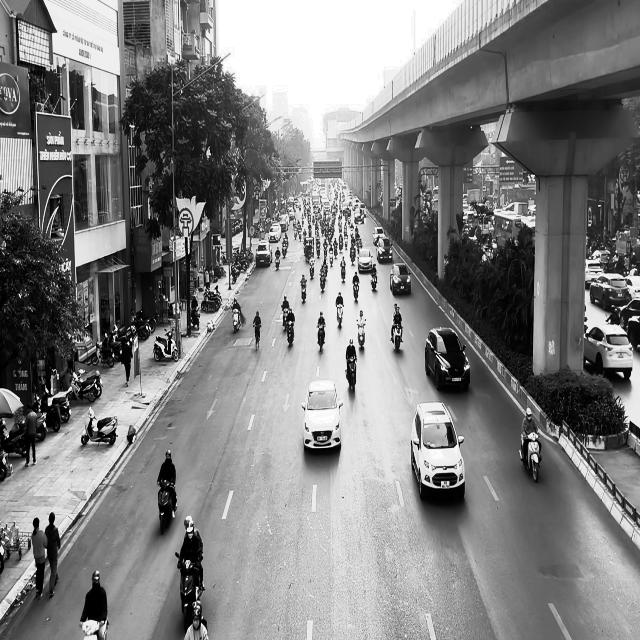bus: (493, 208, 533, 251)
car: (410, 401, 465, 500), (301, 378, 343, 452), (424, 327, 470, 391), (584, 324, 634, 379), (390, 263, 411, 295), (358, 248, 373, 272)
motorbike: (175, 551, 205, 633), (81, 406, 118, 446), (519, 428, 541, 482), (157, 479, 177, 534), (153, 328, 179, 362), (345, 355, 357, 392), (390, 321, 402, 352), (356, 319, 366, 348), (285, 320, 294, 346), (317, 322, 325, 351), (253, 323, 261, 351), (232, 308, 240, 333), (336, 302, 343, 328), (370, 270, 378, 290), (352, 279, 359, 301), (300, 281, 307, 302), (340, 262, 346, 282), (275, 253, 280, 269)
